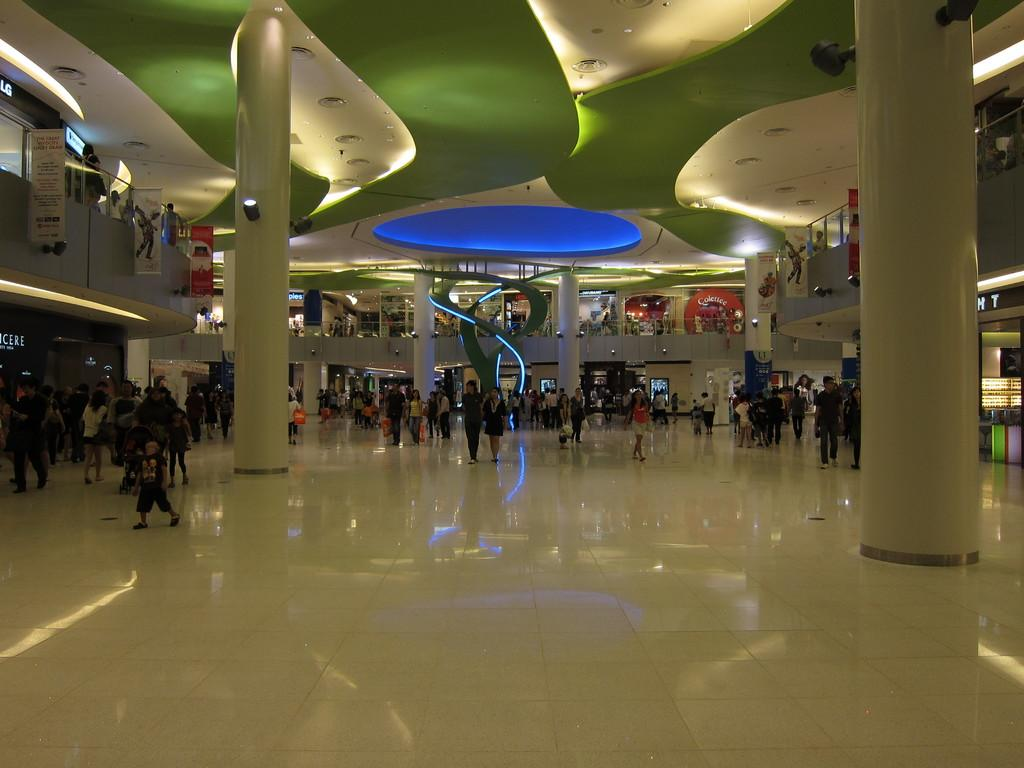Luggage-and-bags: (417, 424, 437, 452), (378, 417, 388, 441), (294, 405, 305, 425)
